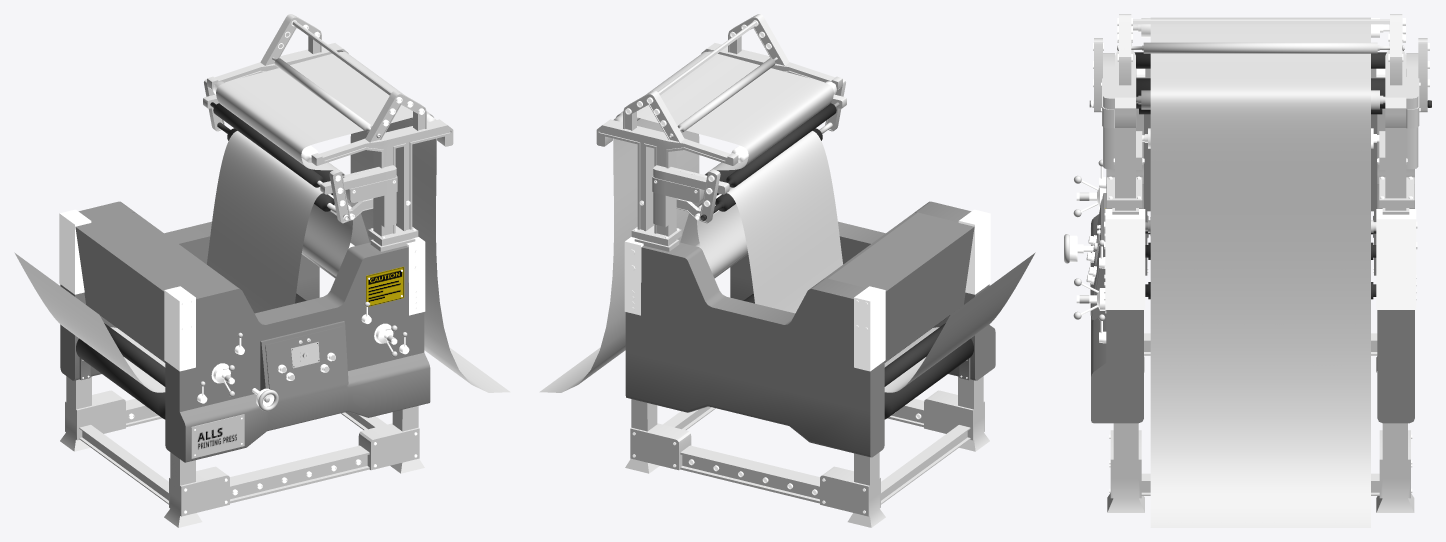
File: printing press modified no rust.glb
3 renders of one model, left to right at view 1: azimuth 30°, elevation 25°; view 2: azimuth 150°, elevation 25°; view 3: azimuth 270°, elevation 25°, orthographic. The views are drawn at different scales.
Visible parts, largest first — view 1: Main Body, Paper Guide, Bottom Frame, Upper Frame, Rollers, Upper Metal Frame, Brand Plate, Caution Plate, Dual Lever, Main Body.003; view 2: Main Body, Paper Guide, Bottom Frame, Upper Frame, Rollers, Upper Metal Frame; view 3: Paper Guide, Upper Frame, Main Body, Upper Metal Frame, Bottom Frame, Rollers, Dual Lever, Wheel, Lever.
Boxes of the visible parts, x1,y1,x2,y2 form: Main Body: (60, 201, 430, 462); Paper Guide: (14, 51, 510, 392); Bottom Frame: (60, 376, 424, 527); Upper Frame: (203, 14, 453, 251); Rollers: (76, 50, 435, 419); Upper Metal Frame: (59, 209, 425, 371); Brand Plate: (191, 414, 244, 458); Caution Plate: (366, 266, 404, 306); Dual Lever: (211, 323, 397, 396); Main Body.003: (291, 342, 319, 368); Main Body: (625, 201, 995, 457); Paper Guide: (539, 51, 1035, 392); Bottom Frame: (625, 376, 989, 527); Upper Frame: (596, 14, 846, 251); Rollers: (614, 50, 973, 419); Upper Metal Frame: (624, 209, 990, 371); Paper Guide: (1150, 17, 1370, 527); Upper Frame: (1094, 14, 1427, 214); Main Body: (1090, 68, 1414, 423); Upper Metal Frame: (1105, 68, 1416, 309); Bottom Frame: (1107, 333, 1414, 512); Rollers: (1089, 18, 1431, 299); Dual Lever: (1073, 175, 1106, 319); Wheel: (1064, 234, 1093, 263); Lever: (1098, 159, 1106, 343).
Bounding box in the file's own units: 20.1 × 17.53 × 12.04.
16 materials, 3 textured.
